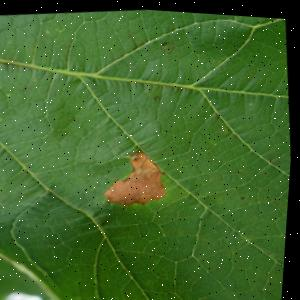Folha: (0, 0, 300, 300)
Fungo: (99, 144, 172, 208), (157, 36, 175, 54), (126, 152, 139, 159), (158, 38, 168, 45), (240, 192, 246, 197)
